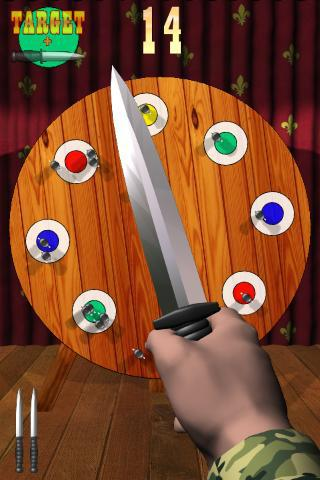knief: (76, 62, 220, 323)
